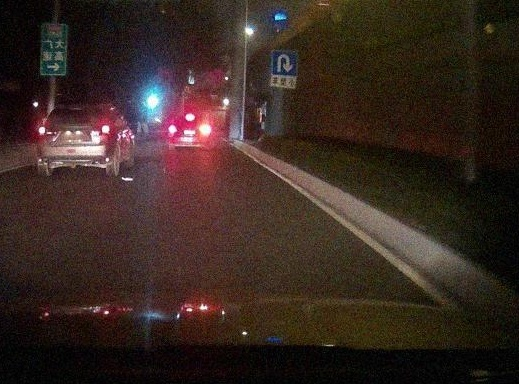L_light: (37, 126, 58, 136), (169, 127, 177, 131)
R_light: (92, 123, 113, 133), (201, 127, 210, 131)
T_light: (70, 109, 83, 112), (186, 115, 195, 119)
night-no: (36, 104, 114, 176)
night-right: (167, 112, 211, 151)
